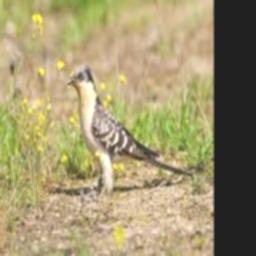Cuckoo: (67, 64, 192, 195)
